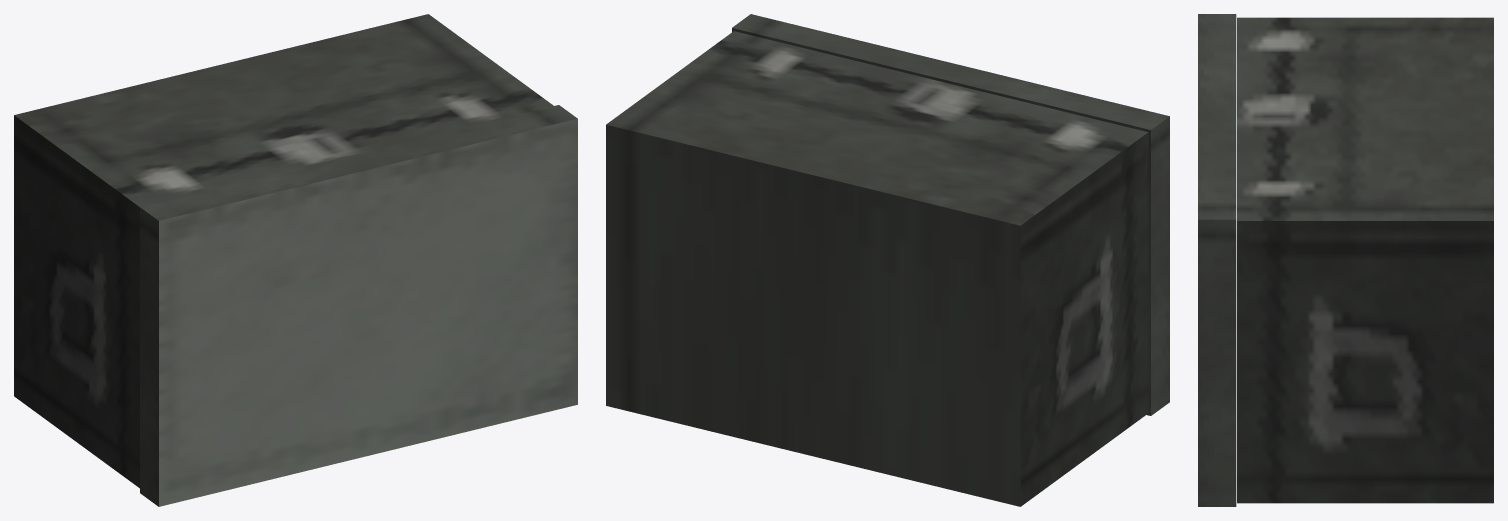
File: pz_g016_storage_small.obj
The picture shows the model from 3 angles, left to right: view 1: azimuth 30°, elevation 25°; view 2: azimuth 150°, elevation 25°; view 3: azimuth 270°, elevation 25°; orthographic projection.
Parts seen in each view (by area): view 1: pz_g016_storage_small; view 2: pz_g016_storage_small; view 3: pz_g016_storage_small.
Part boxes in pixels (box(x1,y1,x2,y2)): pz_g016_storage_small: box(14, 14, 577, 506); pz_g016_storage_small: box(606, 14, 1169, 506); pz_g016_storage_small: box(1198, 14, 1493, 506).
Size of the model in its own units: 0.7188 by 0.4687 by 0.437.
1 material, 1 textured.
